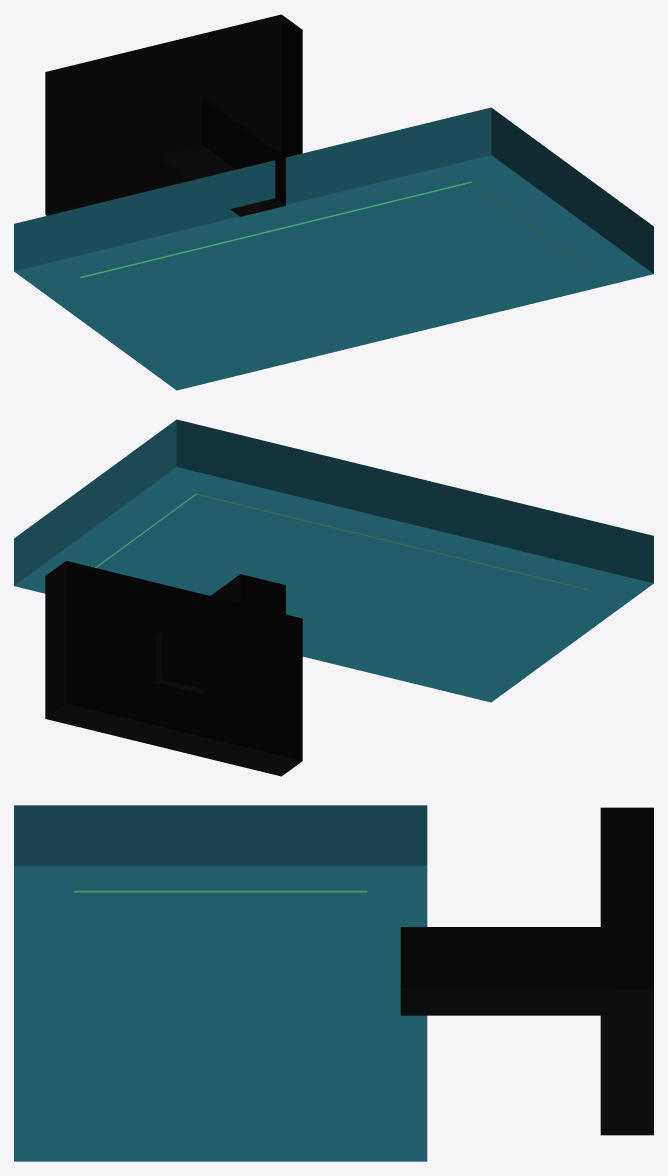
Rendered from monitor.glb.
3 renders of one model, top to bottom at view 1: azimuth 30°, elevation 25°; view 2: azimuth 150°, elevation 25°; view 3: azimuth 270°, elevation 25°, orthographic. The views are drawn at different scales.
Parts seen in each view (by area): view 1: monitor_screen, monitor_base, monitor_neck, monitor_glow; view 2: monitor_screen, monitor_base, monitor_neck, monitor_glow; view 3: monitor_screen, monitor_neck, monitor_base, monitor_glow.
Boxes of the visible parts, bbox=[...] form: monitor_screen: bbox=[14, 107, 653, 390]; monitor_base: bbox=[45, 14, 302, 215]; monitor_neck: bbox=[156, 97, 285, 216]; monitor_glow: bbox=[80, 181, 587, 277]; monitor_screen: bbox=[14, 419, 653, 702]; monitor_base: bbox=[45, 561, 302, 776]; monitor_neck: bbox=[156, 574, 285, 693]; monitor_glow: bbox=[95, 493, 587, 589]; monitor_screen: bbox=[14, 805, 427, 1161]; monitor_neck: bbox=[400, 927, 613, 1015]; monitor_base: bbox=[600, 807, 653, 1135]; monitor_glow: bbox=[74, 890, 367, 892].
Bounding box in the file's own units: 1.05 × 0.3 × 0.96.
